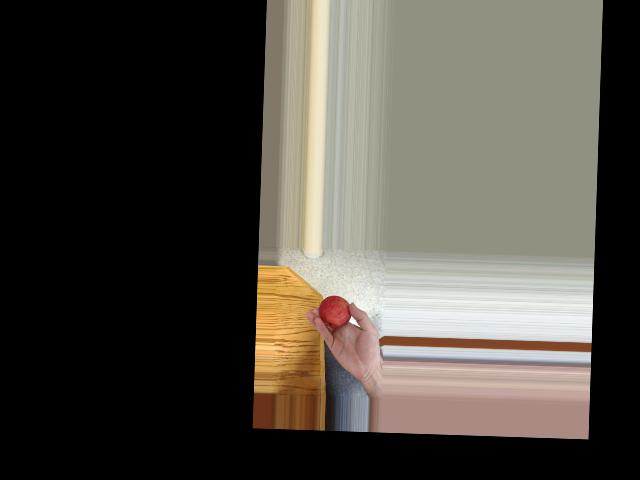apple: (317, 293, 352, 332)
